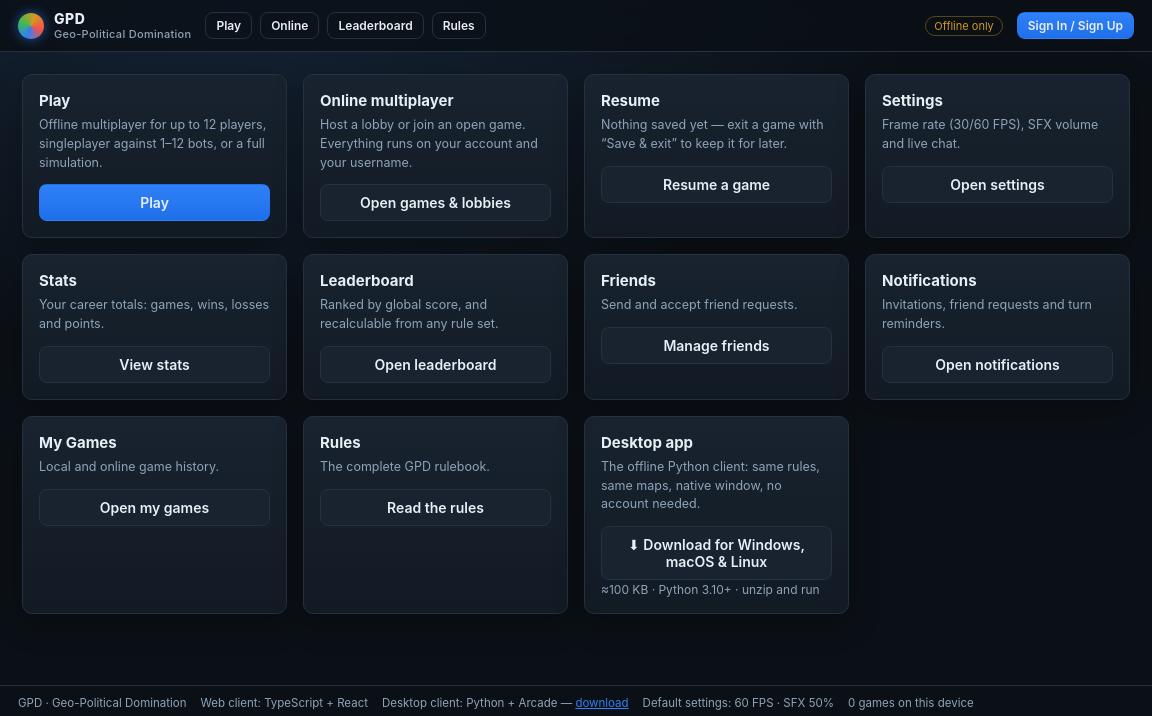
web client › opens the rulebook, settings and leaderboard panels
This screenshot has width=1152, height=716.
Click the button "Rules" at (459, 26), box [432, 12, 486, 39]
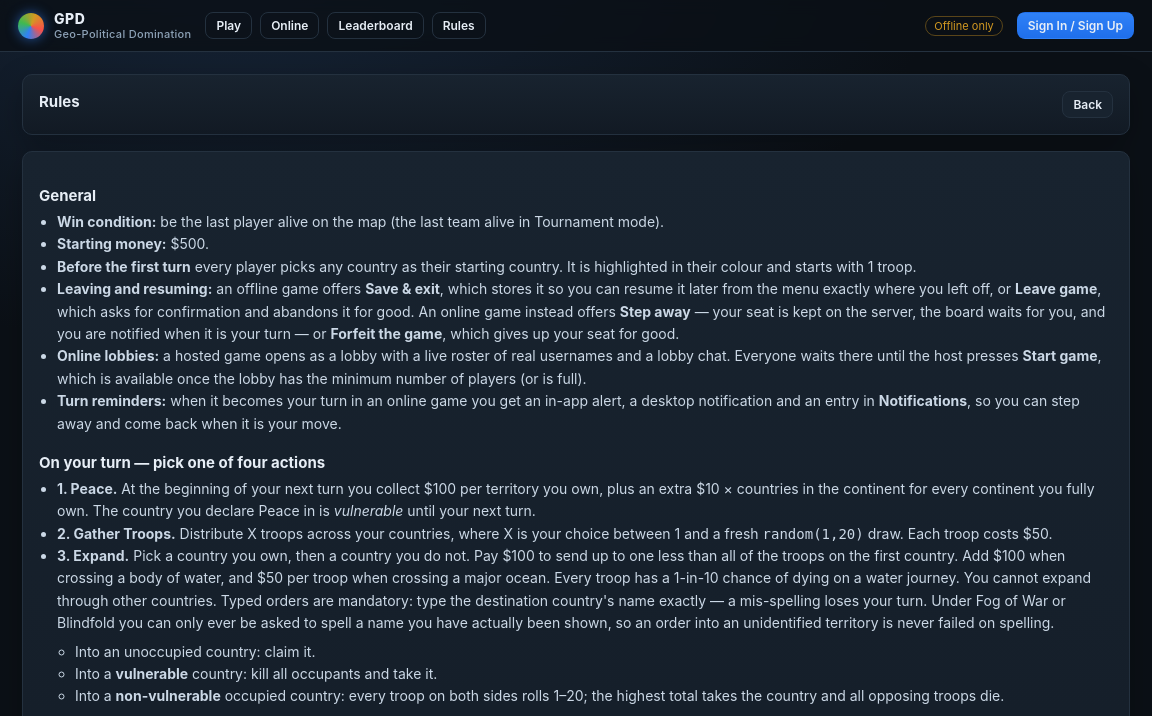
Check: the list item "be the last player alive" is shown, box [156, 213, 664, 230]
Check: the text "random(1,20)" is shown, box [763, 526, 864, 542]
Click the button "Back" at (1088, 104), box [1062, 91, 1113, 118]
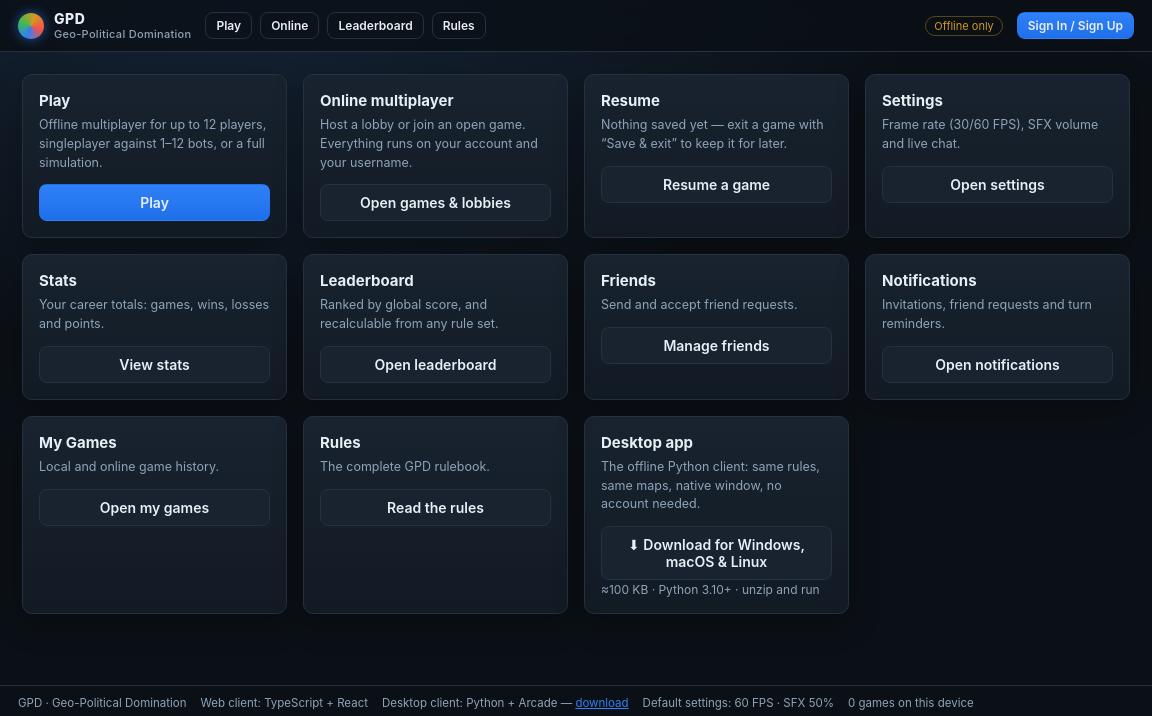
Click the button "Open settings" at (998, 184), box [882, 166, 1113, 202]
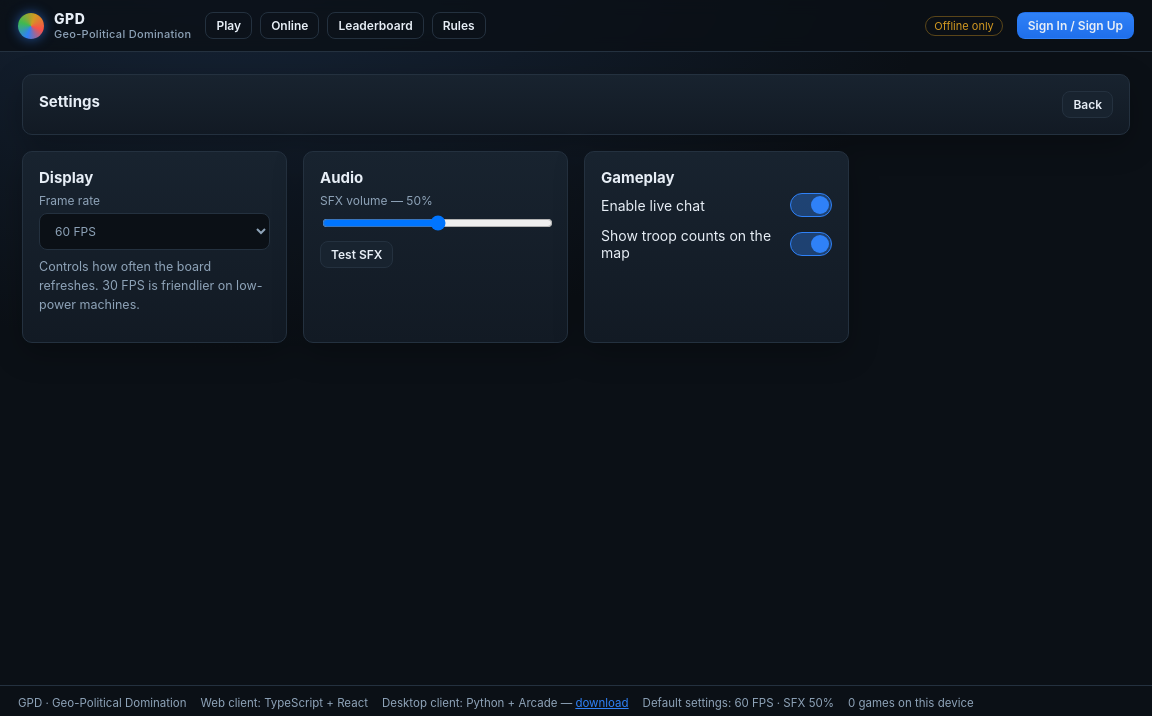
Check: the text "Frame rate" is shown, box [39, 193, 270, 250]
Check: the text "SFX volume — 50%" is shown, box [320, 193, 551, 233]
Check: the text "Enable live chat" is shown, box [601, 196, 705, 214]
Select "30 FPS" in the dropdown at (154, 232), box [39, 213, 270, 250]
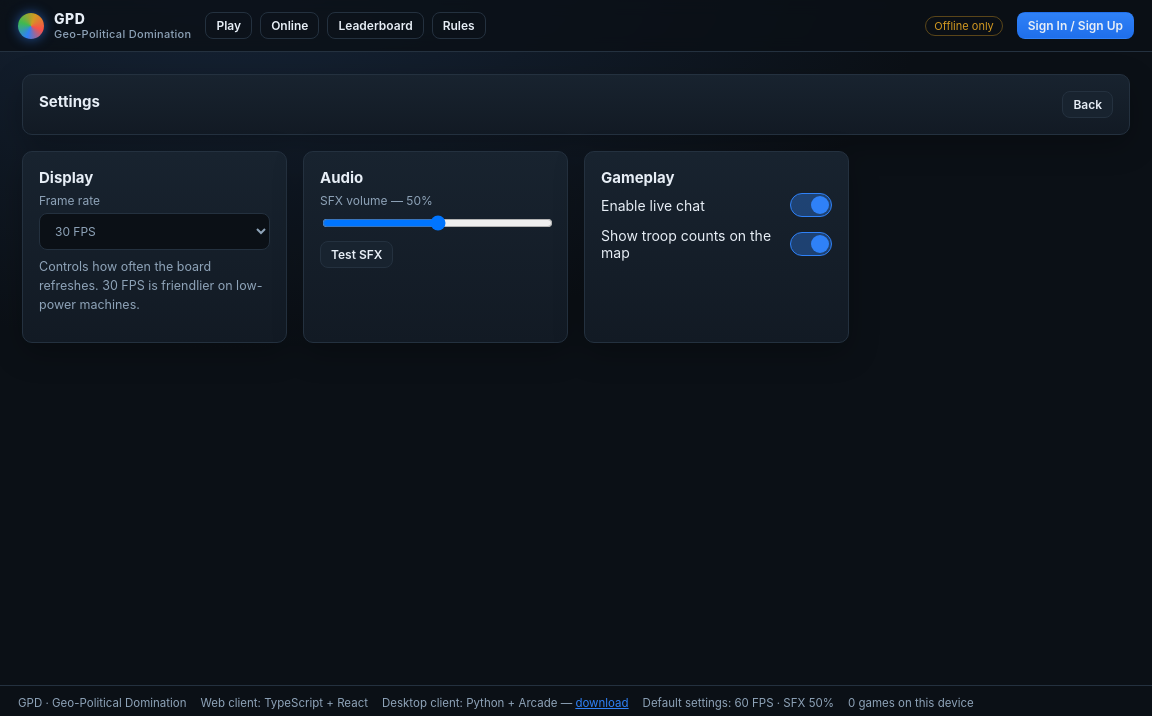
Click the button "Back" at (1088, 104), box [1062, 91, 1113, 118]
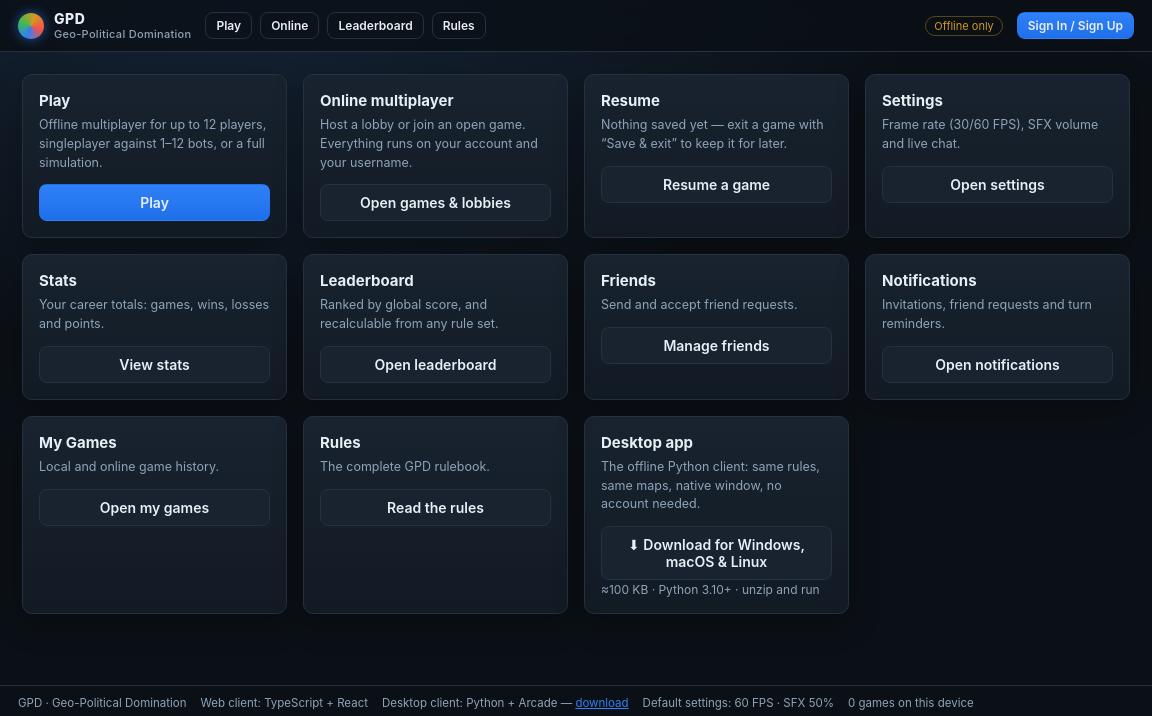
Click the button "Leaderboard" at (376, 26), box [327, 12, 424, 39]
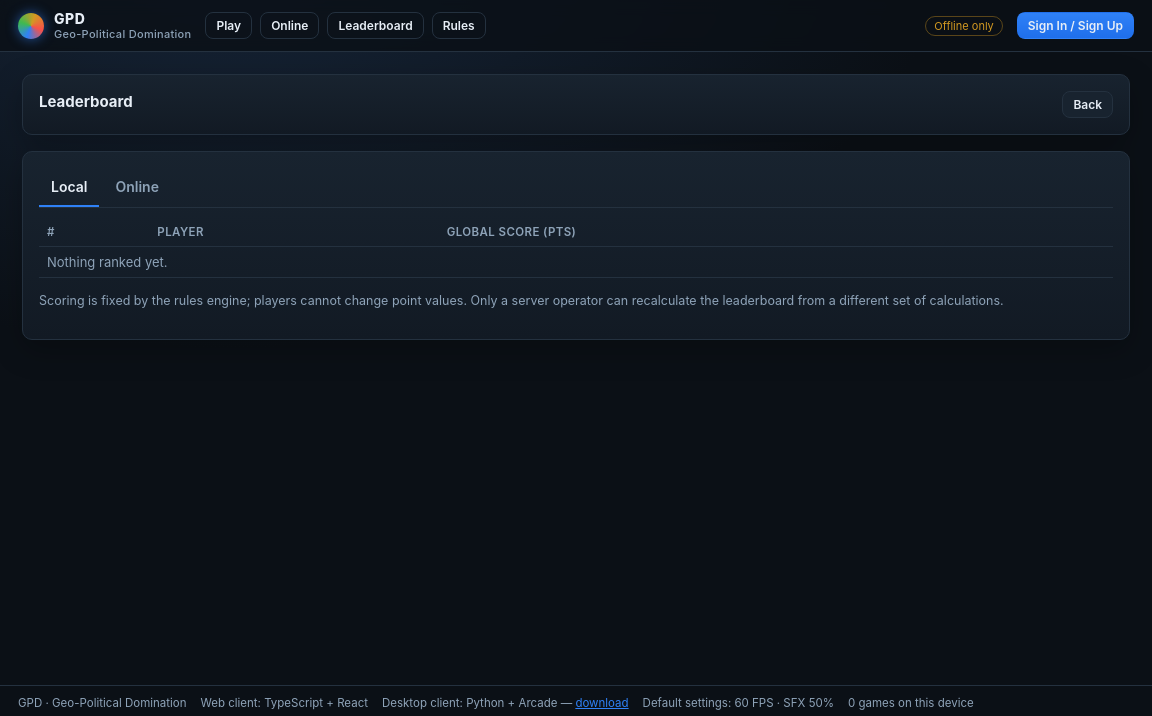
Check: the text "players cannot change point values" is shown, box [39, 293, 1004, 308]
